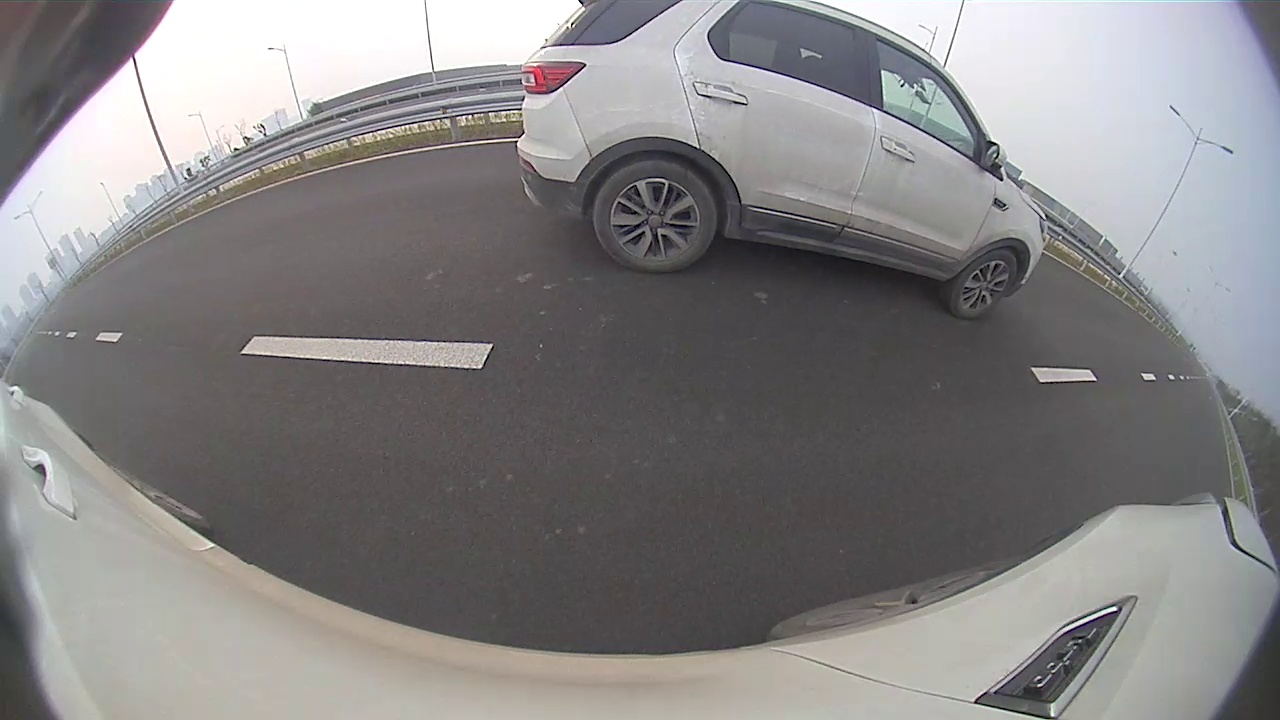car: (516, 1, 1048, 320)
front: (952, 250, 1021, 317)
rear: (594, 159, 716, 273)
